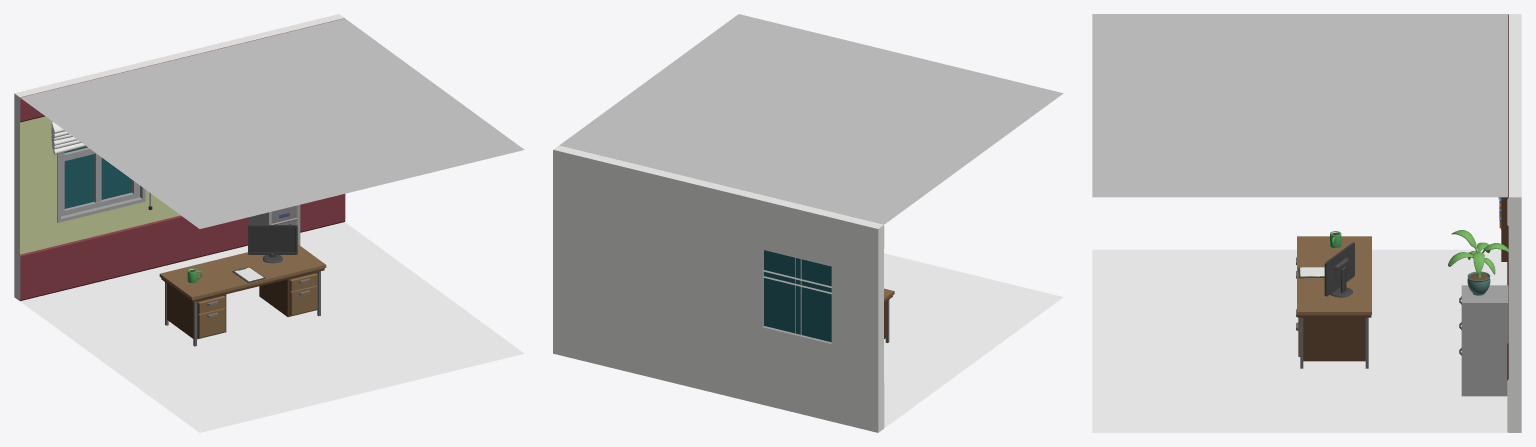
File: theRoom01.fbx
3 views of the same model, side by side, from view 1: azimuth 30°, elevation 25°; view 2: azimuth 150°, elevation 25°; view 3: azimuth 270°, elevation 25° (orthographic). The views are drawn at different scales.
Visible parts, largest first — view 1: Ceiling, Floor, Wall_Window, Desk, Wall, Glass, ComputerMonitor, SM_Prop_Cabinets_01, WindowBlinds; view 2: Ceiling, Wall, Wall_Window, Floor, Glass; view 3: Ceiling, Floor, Desk, SM_Prop_Cabinets_01, Wall, Flower, Wall_Window, ComputerMonitor, WallBoard.
Part boxes in pixels (x1,y1,x2,y2): Ceiling: [20, 18, 524, 228]; Floor: [20, 222, 524, 432]; Wall_Window: [14, 53, 182, 300]; Desk: [159, 244, 326, 346]; Wall: [177, 14, 345, 261]; Glass: [64, 146, 131, 208]; ComputerMonitor: [248, 225, 297, 263]; SM_Prop_Cabinets_01: [249, 205, 300, 245]; WindowBlinds: [51, 122, 152, 209]; Ceiling: [559, 14, 1063, 224]; Wall: [553, 145, 720, 393]; Wall_Window: [715, 185, 884, 432]; Floor: [884, 253, 1063, 428]; Glass: [764, 250, 831, 342]; Ceiling: [1092, 14, 1507, 197]; Floor: [1092, 249, 1507, 432]; Desk: [1296, 236, 1371, 368]; SM_Prop_Cabinets_01: [1459, 285, 1508, 396]; Wall: [1507, 105, 1521, 432]; Flower: [1448, 230, 1508, 295]; Wall_Window: [1507, 14, 1521, 287]; ComputerMonitor: [1324, 242, 1354, 297]; WallBoard: [1498, 197, 1508, 261].
Size of the model in its own units: 500 by 300 by 494.
